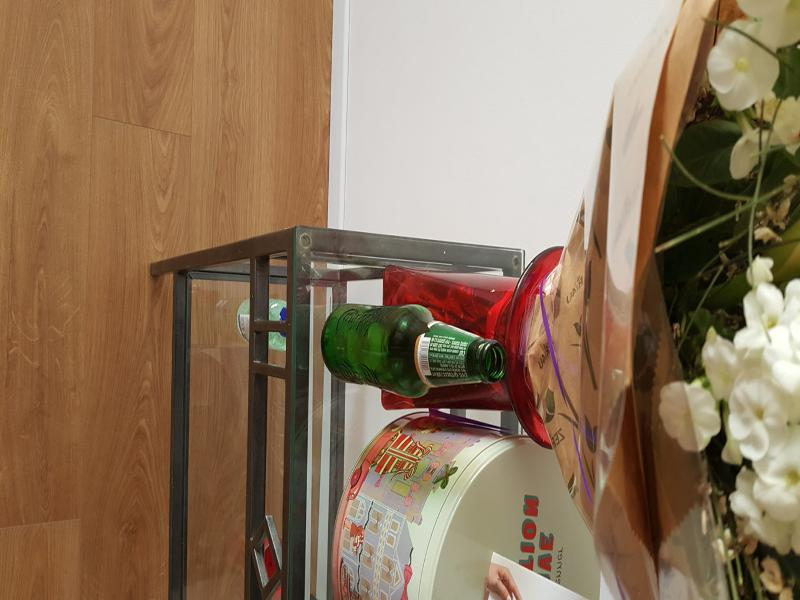Beer: (319, 302, 504, 398)
